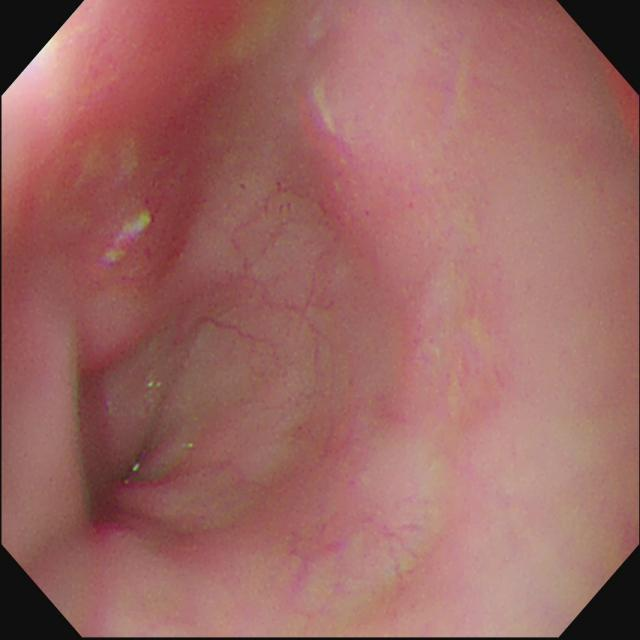A: (144, 196, 190, 268), (264, 180, 295, 218)
U: (100, 214, 152, 267)
